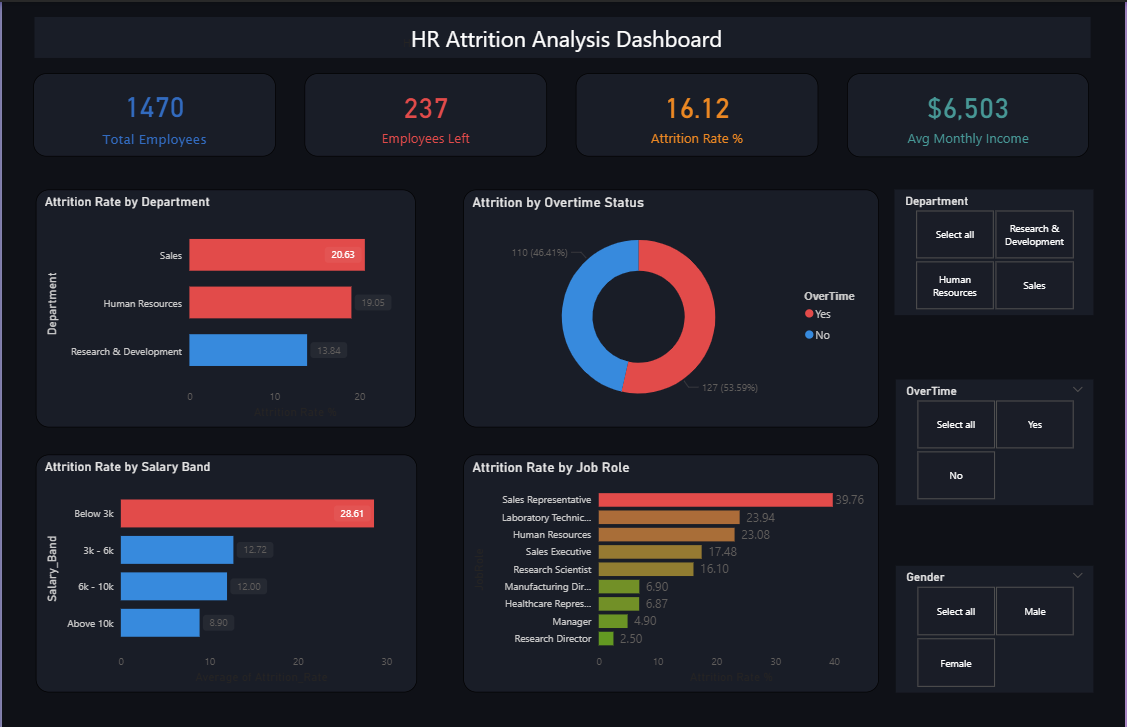

What the dashboard file says about the page in this screenshot:
{"tool":"powerbi","page":{"name":"Page 1","canvas":[1360,900],"ordinal":0},"visuals":[{"type":"card","title":"Attrition Rate","fields":{"Values":["select","dept_attrition.Attrition Rate %"]},"box":[694.5,85.9,293.3,100.6],"z":0},{"type":"clusteredBarChart","title":"Attrition Rate by Department","fields":{"Category":["dept_attrition.Department"],"Y":["dept_attrition.Attrition Rate %"]},"box":[41.2,226.6,460.1,288.3],"z":1000},{"type":"donutChart","title":"Attrition by Overtime Status","fields":{"Category":["hr_attrition_cleaned (1).OverTime"],"Y":["Sum(hr_attrition_cleaned (1).Attrition)"]},"box":[558,226.6,503.1,288.3],"z":2000},{"type":"card","title":"Total Employees","fields":{"Values":["dept_attrition.Total Employees"]},"box":[38.1,85.9,293.3,100.6],"z":3000},{"type":"card","title":"Employees Left","fields":{"Values":["hr_attrition_cleaned (1).Employees Left"]},"box":[365.7,85.9,293.3,100.6],"z":4000},{"type":"card","fields":{"Values":["dept_attrition.Avg Monthly Income"]},"box":[1023.4,86.5,292.9,101.2],"z":5000},{"type":"clusteredBarChart","title":"Attrition Rate by Salary Band","fields":{"Y":["Avg(salary_attrition.Attrition_Rate)"],"Category":["salary_attrition.Salary_Band"]},"box":[41.2,547.1,461.7,288.3],"z":6000},{"type":"slicer","fields":{"Values":["hr_attrition_cleaned (1).Department"]},"box":[1080.4,226.9,240.5,152.1],"z":7000},{"type":"slicer","fields":{"Values":["hr_attrition_cleaned (1).Gender"]},"box":[1081.9,682.1,239.3,153.4],"z":8000},{"type":"slicer","fields":{"Values":["hr_attrition_cleaned (1).OverTime"]},"box":[1081.9,456.7,239.3,151.8],"z":9000},{"type":"clusteredBarChart","title":"Attrition Rate by Job Role","fields":{"Category":["hr_attrition_cleaned (1).JobRole"],"Y":["dept_attrition.Attrition Rate %"]},"box":[558,547.1,503.1,288.3],"z":10000},{"type":"textbox","box":[39.3,18.2,1278.6,49.9],"z":10001}]}

Visuals, with their boxes in screenshot pixels (x1, y1, x2, y2), scaled from the page's 1360x900 canvas onto the 1127x727 screenshot:
"Attrition Rate" card: region(576, 69, 819, 151)
"Attrition Rate by Department" clusteredBarChart: region(34, 183, 415, 416)
"Attrition by Overtime Status" donutChart: region(462, 183, 879, 416)
"Total Employees" card: region(32, 69, 275, 151)
"Employees Left" card: region(303, 69, 546, 151)
card - dept_attrition.Avg Monthly Income: region(848, 70, 1091, 152)
"Attrition Rate by Salary Band" clusteredBarChart: region(34, 442, 417, 675)
slicer - hr_attrition_cleaned (1).Department: region(895, 183, 1095, 306)
slicer - hr_attrition_cleaned (1).Gender: region(897, 551, 1095, 675)
slicer - hr_attrition_cleaned (1).OverTime: region(897, 369, 1095, 492)
"Attrition Rate by Job Role" clusteredBarChart: region(462, 442, 879, 675)
textbox: region(33, 15, 1092, 55)
